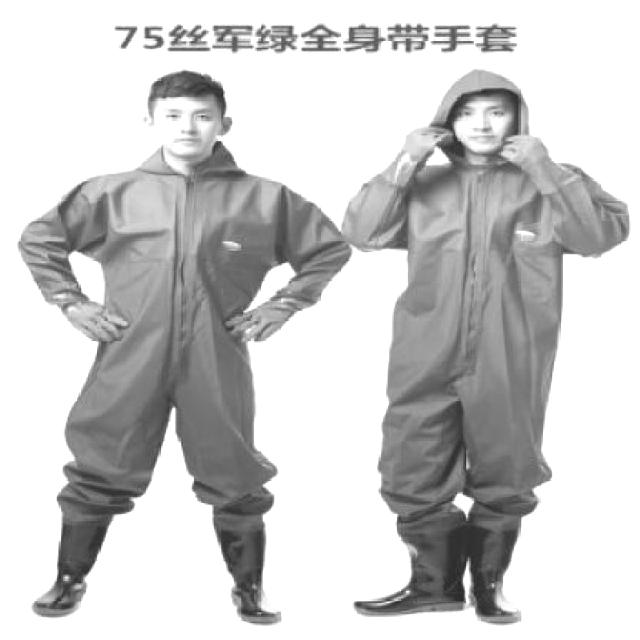face_nomask: (157, 99, 215, 152), (457, 96, 508, 146)
hand_glove: (225, 297, 289, 345), (64, 297, 124, 343), (402, 123, 451, 169), (500, 134, 549, 177)
head_nohelmet: (146, 63, 231, 106), (434, 74, 534, 108)
person: (23, 46, 343, 634), (331, 58, 626, 640)
shoes: (349, 538, 474, 620), (204, 534, 293, 634), (30, 516, 101, 622), (462, 527, 529, 625)
